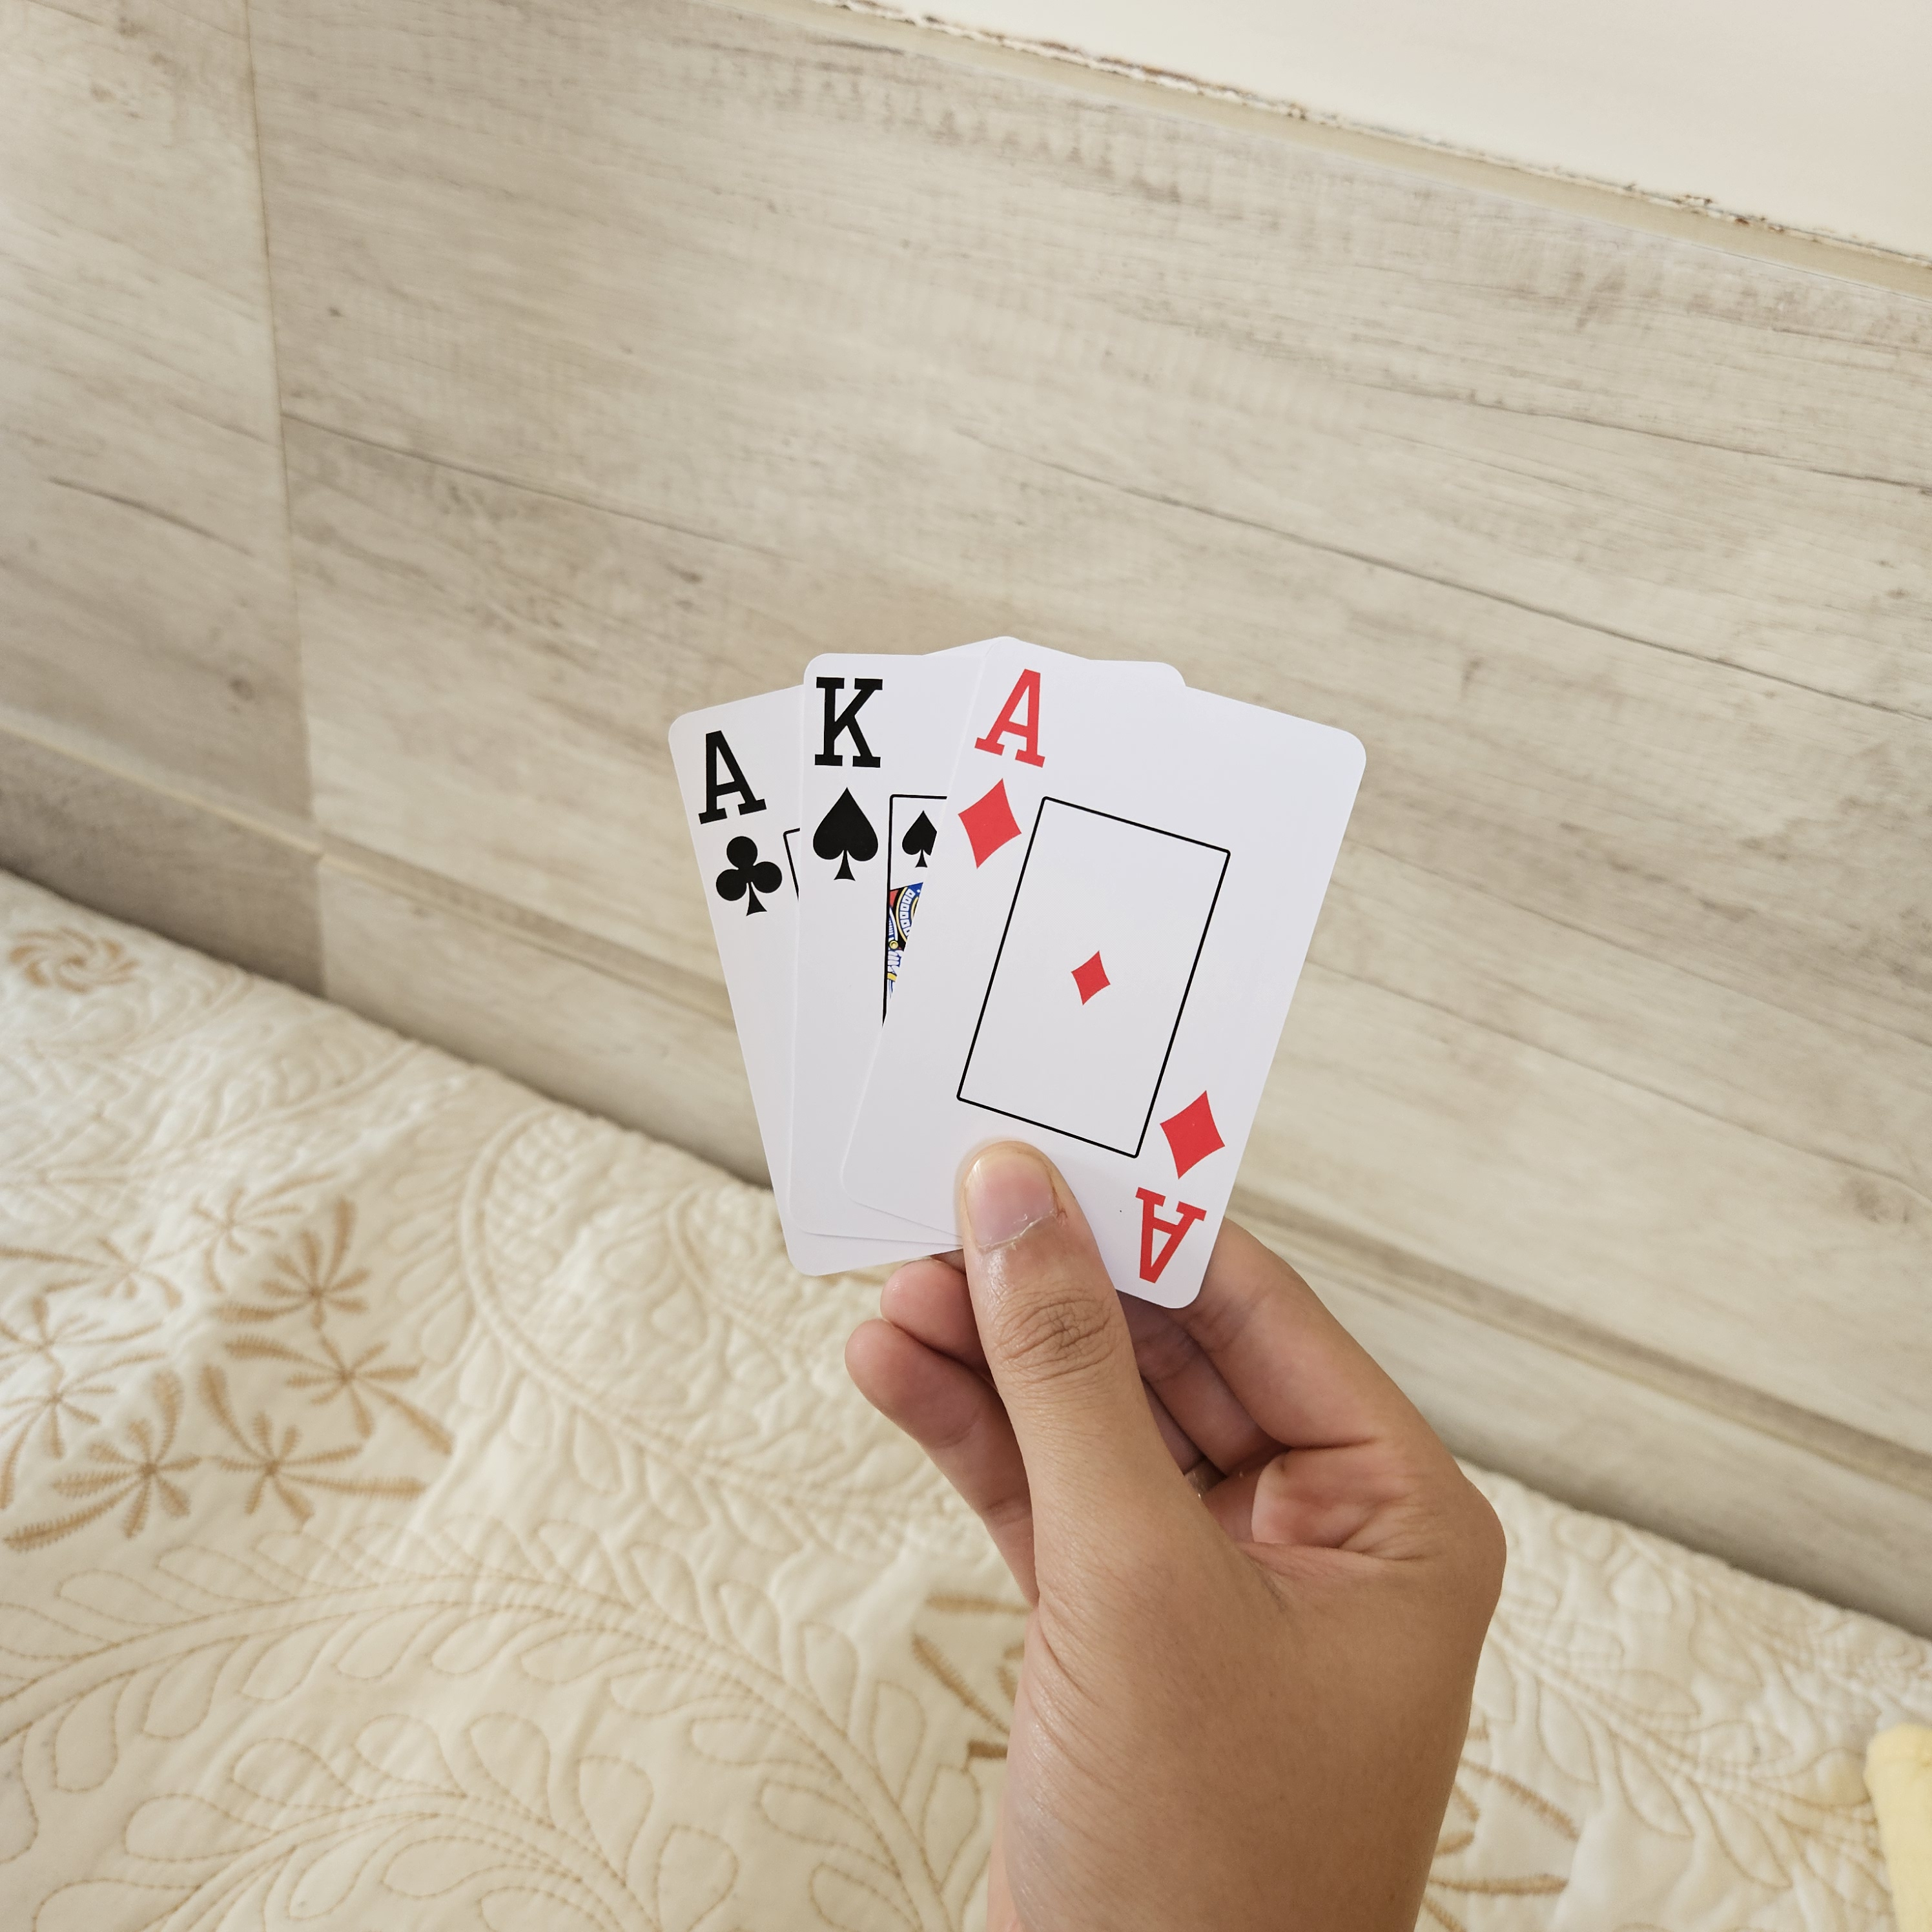AO: (1123, 1070, 1235, 1295), (948, 656, 1060, 872)
AP: (679, 711, 789, 924)
KE: (800, 658, 897, 893)
